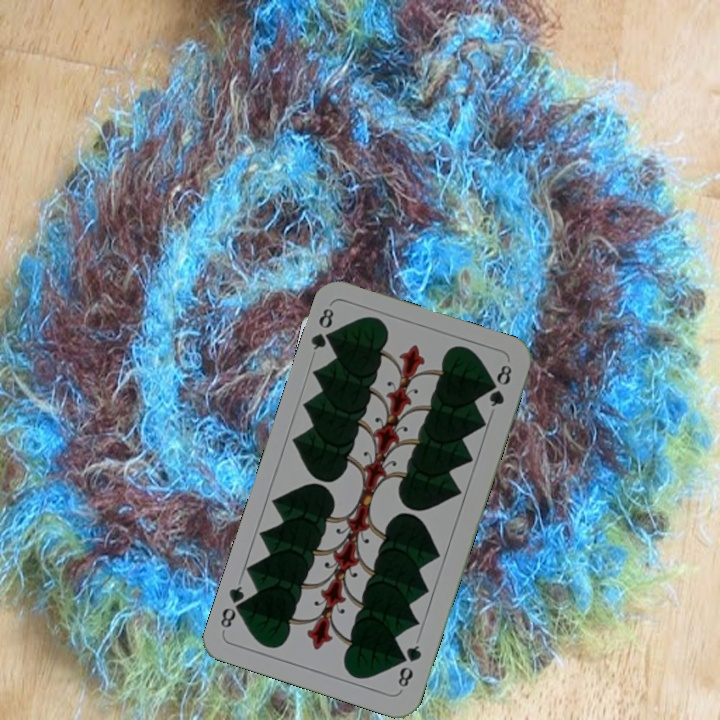G8: (306, 304, 339, 353), (393, 641, 424, 693)
